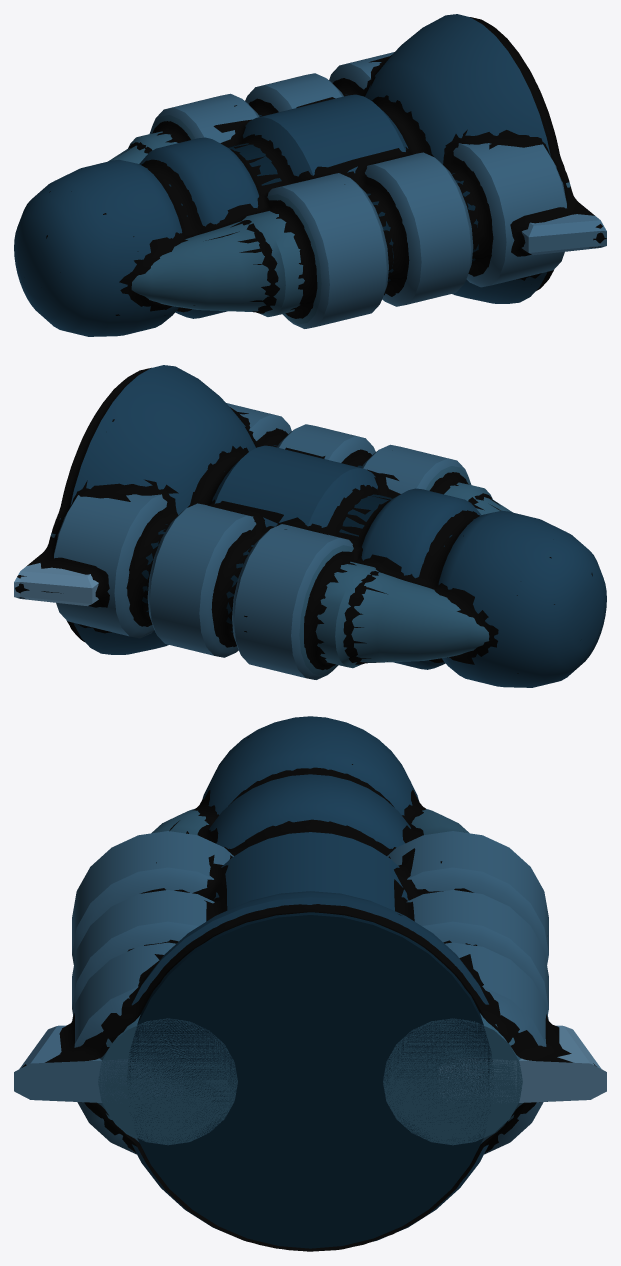
Rendered from newsh-caret-198.glb.
The picture shows the model from 3 angles, top to bottom: view 1: azimuth 30°, elevation 25°; view 2: azimuth 150°, elevation 25°; view 3: azimuth 270°, elevation 25°; orthographic projection. The views are drawn at different scales.
Visible parts, largest first — view 1: newsh-caret-198, newsh-caret-198_outline; view 2: newsh-caret-198, newsh-caret-198_outline; view 3: newsh-caret-198, newsh-caret-198_outline.
Boxes of the visible parts, box(x1,y1,x2,y2) form: newsh-caret-198: box(14, 14, 606, 336); newsh-caret-198_outline: box(46, 17, 606, 318); newsh-caret-198: box(14, 365, 606, 687); newsh-caret-198_outline: box(15, 367, 592, 673); newsh-caret-198: box(14, 716, 606, 1248); newsh-caret-198_outline: box(22, 736, 596, 1251).
Size of the model in its own units: 1.83 by 1.02 by 1.54.
